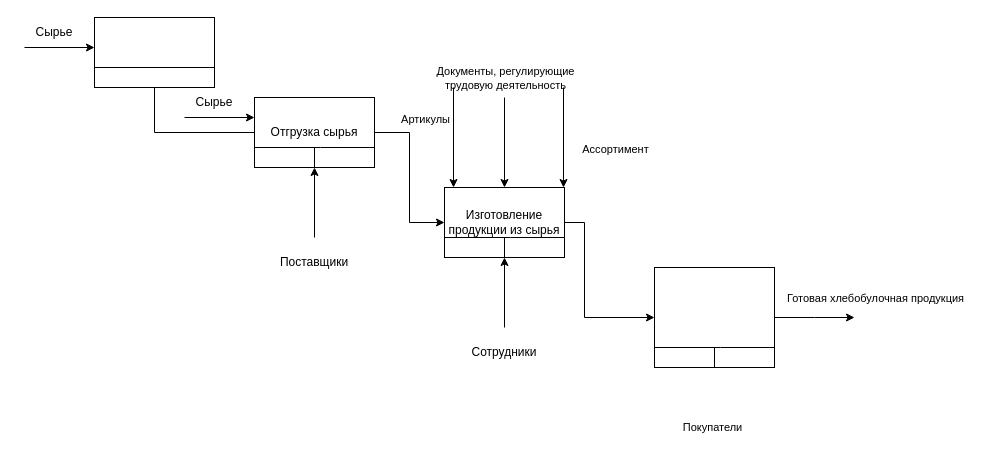
Some shapes in this 981 by 451 pixel diagram are drawn without their labels. The centre of each missing label's shape, as x and y in pixels:
"Заявка на закупку" belongs at point 154,52.
"Отгрузка продукции" belongs at point 714,317.
